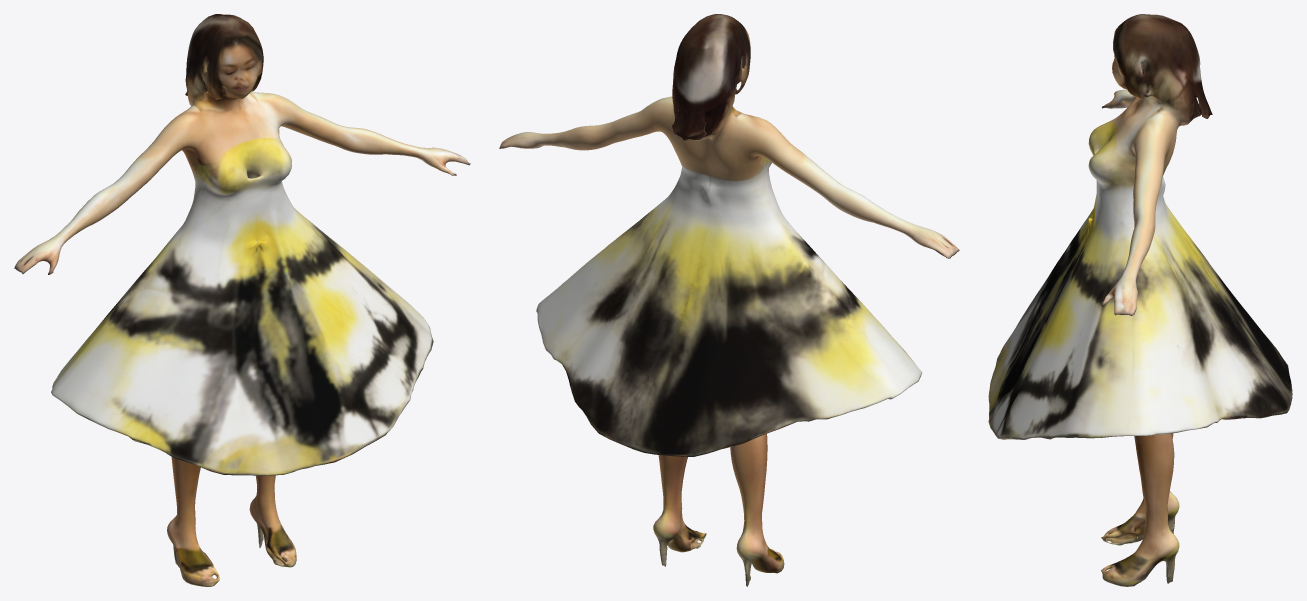
Rendered from robot.glb.
3 views of the same model, side by side, from view 1: azimuth 30°, elevation 25°; view 2: azimuth 150°, elevation 25°; view 3: azimuth 270°, elevation 25° (orthographic).
Size of the model in its own units: 1.73 by 2.01 by 1.01.
1 material, 1 textured.
